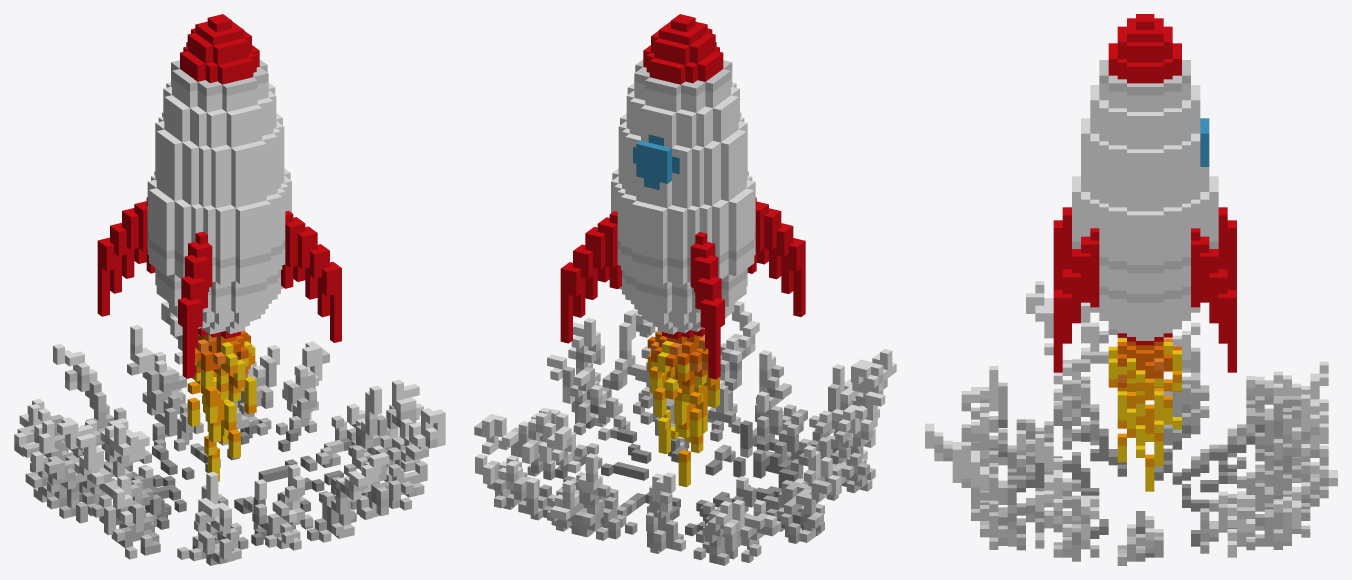
The model's file is rocket.glb.
3 views of the same model, side by side, from view 1: azimuth 30°, elevation 25°; view 2: azimuth 150°, elevation 25°; view 3: azimuth 270°, elevation 25° (orthographic). The views are drawn at different scales.
Bounding box in the file's own units: 43 × 58 × 45.
